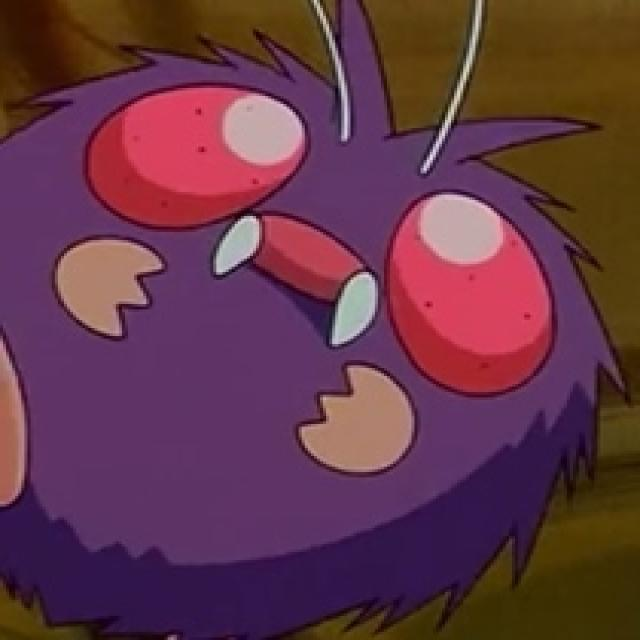Venonat: (0, 59, 591, 589)
